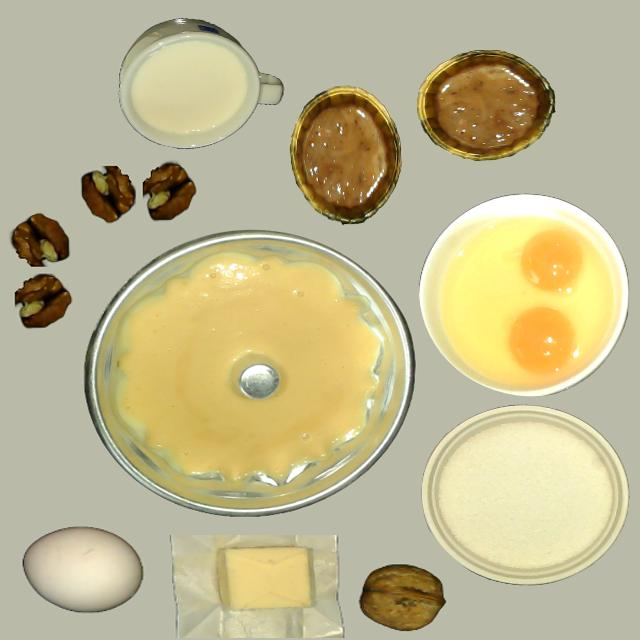Egg: (508, 308, 574, 372), (520, 230, 585, 291)
Milk: (134, 42, 243, 135)
Sugar: (420, 406, 626, 585)
Walnut: (359, 564, 444, 632)
